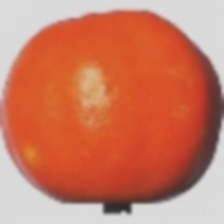tangerine: (20, 28, 208, 172)
